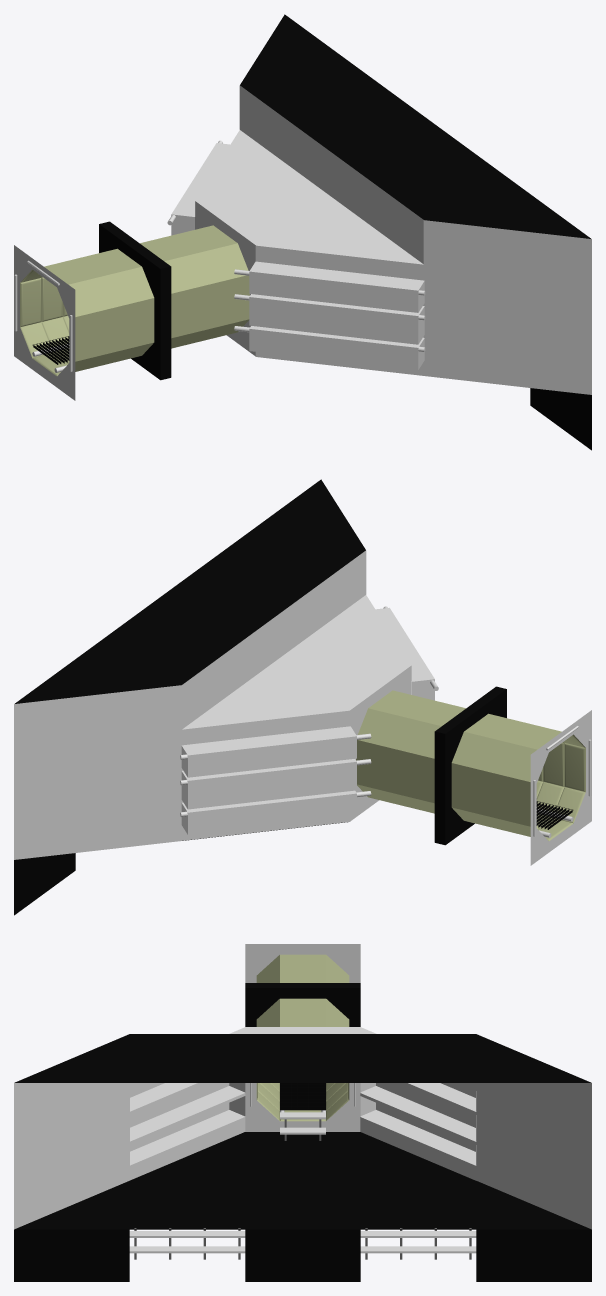
The model's file is Ship-Version-2.fbx.
3 renders of one model, top to bottom at view 1: azimuth 30°, elevation 25°; view 2: azimuth 150°, elevation 25°; view 3: azimuth 270°, elevation 25°, orthographic. The views are drawn at different scales.
Parts seen in each view (by area): view 1: Plane.002, Plane, Hall.012, Hall.005, Floor.087, Floor.088, Floor.006, Floor.009, HallFrame.003, Floor.013, Floor.007, Floor.008 (+9 smaller); view 2: Plane.003, Plane.001, Hall.012, Hall.005, Floor.087, Floor.088, Floor.006, Floor.009, HallFrame.003, Floor.014, Floor.008, Floor.007 (+9 smaller); view 3: Plane.002, Plane.003, Plane.001, Plane, Floor.015, Floor.016, Floor.017, Floor.005, Floor.010, Floor.002, Floor.088, Floor.006 (+18 smaller).
Part boxes in pixels (x1=…): Plane.002: x1=423, y1=220, x2=591, y2=394; Plane: x1=249, y1=245, x2=424, y2=375; Hall.012: x1=20, y1=248, x2=154, y2=375; Hall.005: x1=140, y1=225, x2=249, y2=348; Floor.087: x1=301, y1=104, x2=468, y2=174; Floor.088: x1=240, y1=59, x2=407, y2=129; Floor.006: x1=363, y1=149, x2=529, y2=219; Floor.009: x1=195, y1=175, x2=362, y2=245; HallFrame.003: x1=99, y1=221, x2=171, y2=380; Floor.013: x1=424, y1=194, x2=590, y2=238; Floor.007: x1=257, y1=220, x2=423, y2=264; Floor.008: x1=195, y1=130, x2=300, y2=200; Plane.003: x1=14, y1=685, x2=182, y2=859; Plane.001: x1=181, y1=710, x2=356, y2=840; Hall.012: x1=451, y1=713, x2=585, y2=840; Hall.005: x1=356, y1=690, x2=465, y2=813; Floor.087: x1=137, y1=569, x2=304, y2=639; Floor.088: x1=76, y1=614, x2=242, y2=684; Floor.006: x1=198, y1=524, x2=365, y2=594; Floor.009: x1=243, y1=640, x2=410, y2=710; HallFrame.003: x1=434, y1=686, x2=506, y2=845; Floor.014: x1=15, y1=659, x2=181, y2=703; Floor.008: x1=182, y1=685, x2=348, y2=729; Floor.007: x1=305, y1=595, x2=410, y2=665; Plane.002: x1=14, y1=1083, x2=129, y2=1229; Plane.003: x1=476, y1=1083, x2=591, y2=1229; Plane.001: x1=360, y1=1083, x2=476, y2=1180; Plane: x1=129, y1=1083, x2=245, y2=1180; Floor.015: x1=245, y1=1229, x2=360, y2=1281; Floor.016: x1=476, y1=1229, x2=591, y2=1281; Floor.017: x1=14, y1=1229, x2=129, y2=1281; Floor.005: x1=360, y1=1180, x2=476, y2=1229; Floor.010: x1=129, y1=1180, x2=245, y2=1229; Floor.002: x1=245, y1=1180, x2=360, y2=1229; Floor.088: x1=360, y1=1034, x2=476, y2=1082; Floor.006: x1=129, y1=1034, x2=245, y2=1082.
Bounding box in the file's own units: 3951 × 1900 × 5001.
